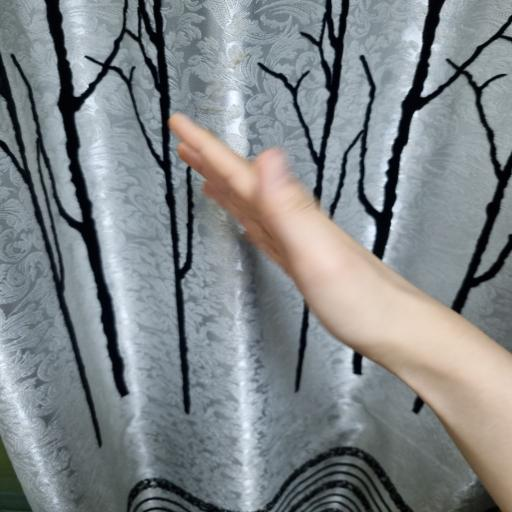Paper: (167, 112, 378, 290)
